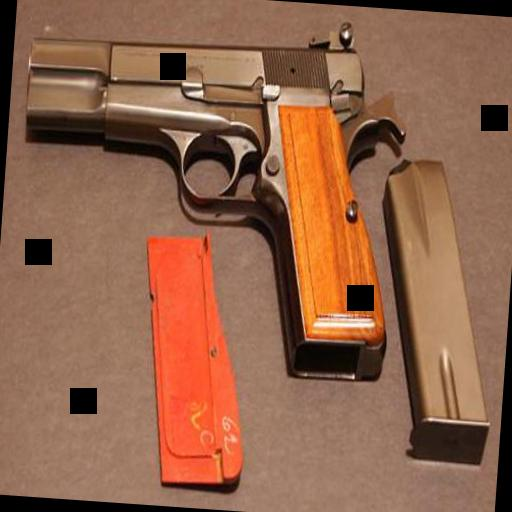Handgun: (3, 0, 412, 398)
